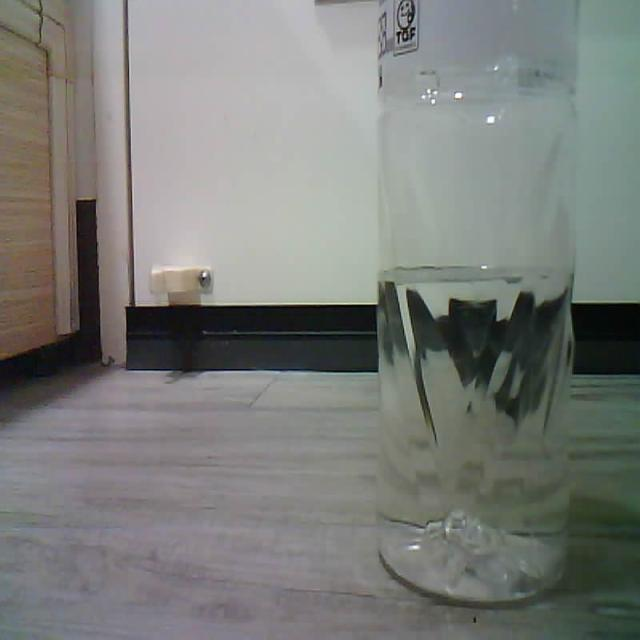bottle: (377, 0, 576, 599)
